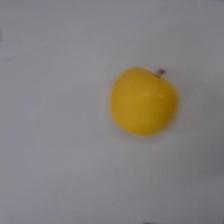yellow: (109, 65, 179, 137)
